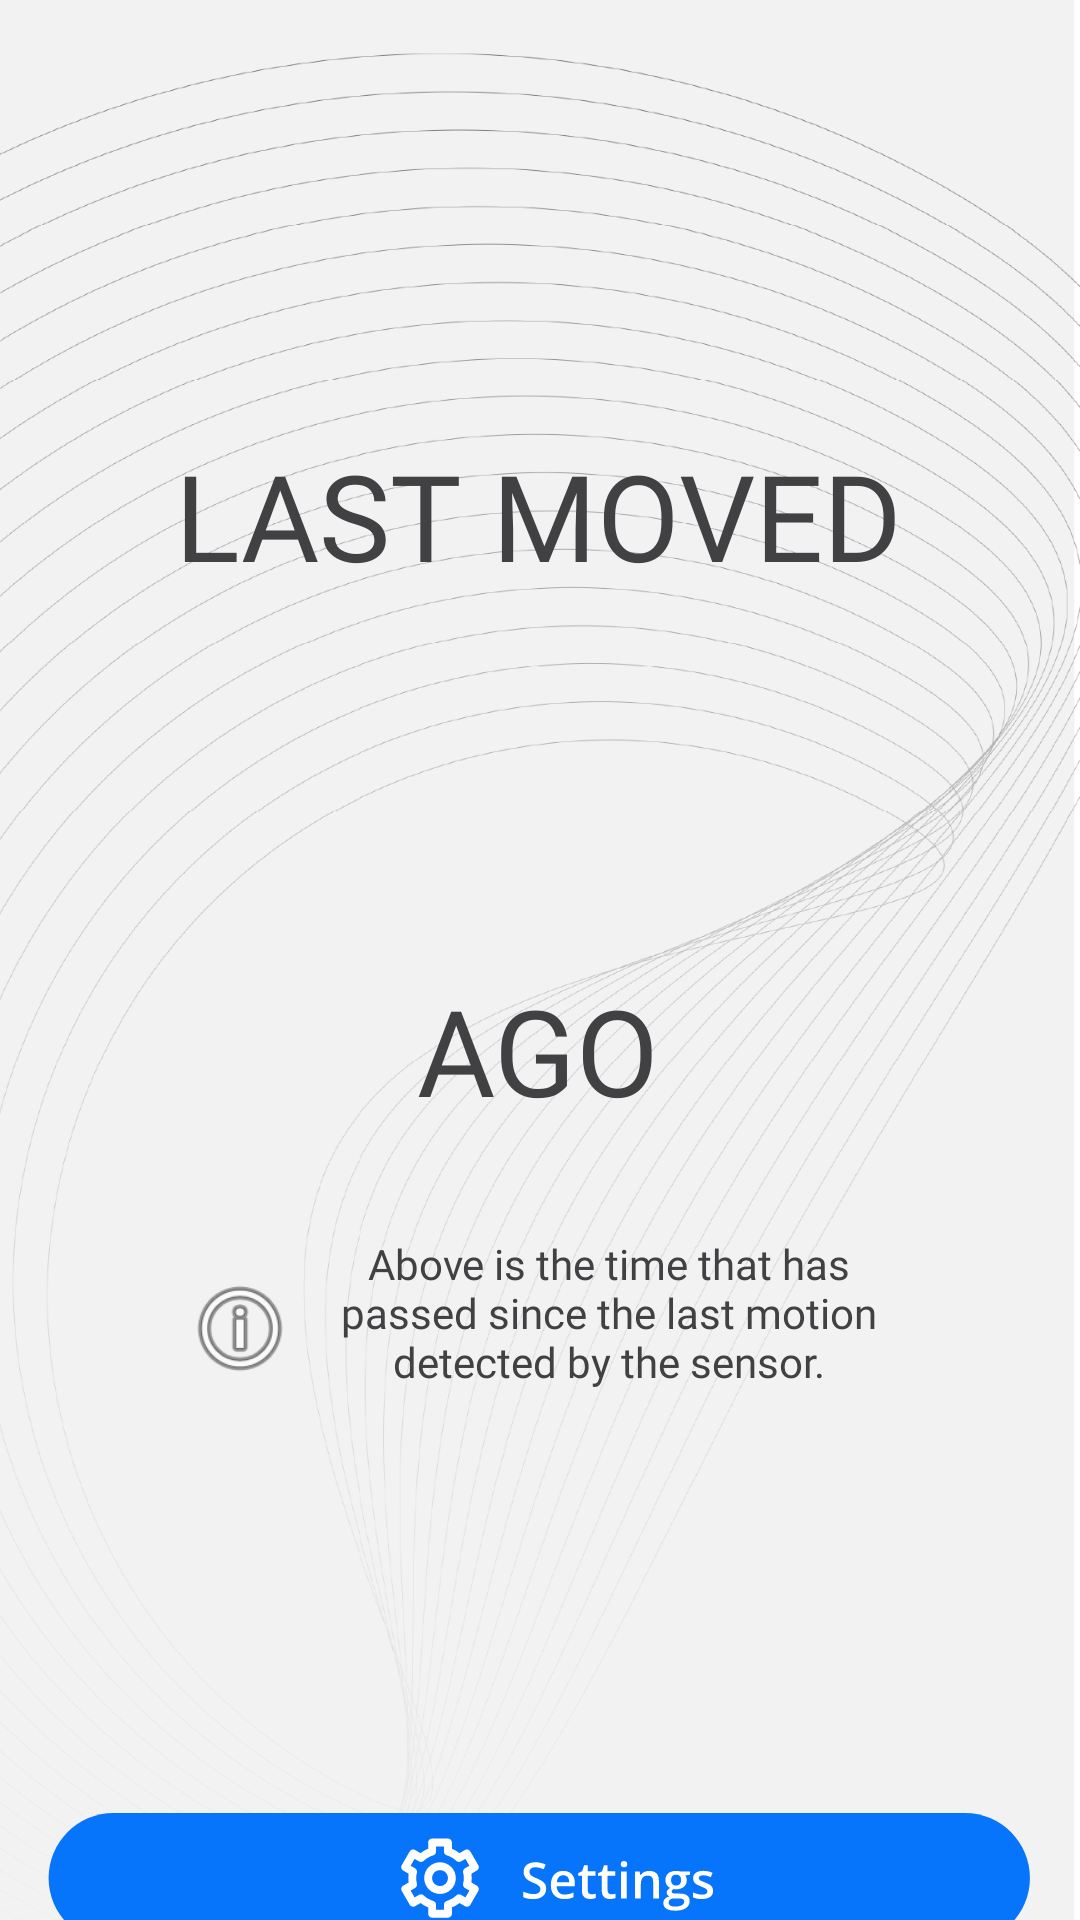

Screen size 1080px×1920px. Icon name, then its box in pixels as box=[x1, y1, x2, y2]:
info details: box=[198, 1286, 309, 1371]
